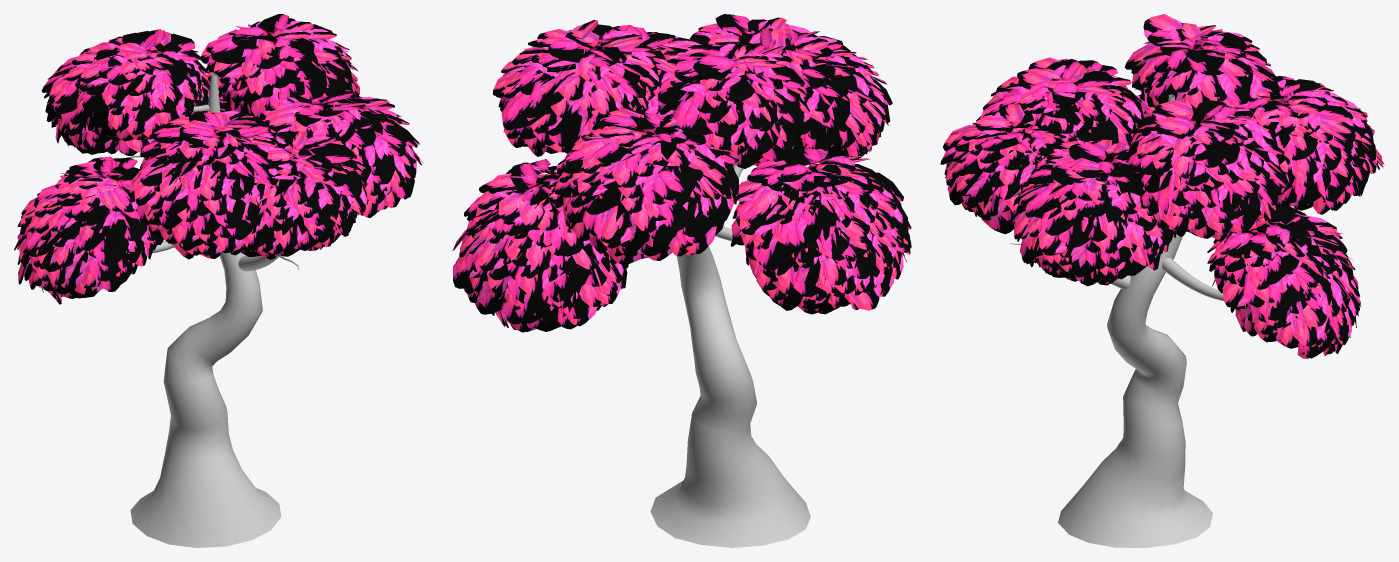
File: tree1.fbx
The picture shows the model from 3 angles, left to right: view 1: azimuth 30°, elevation 25°; view 2: azimuth 150°, elevation 25°; view 3: azimuth 270°, elevation 25°; orthographic projection. The views are drawn at different scales.
Parts seen in each view (by area): view 1: tree-leaves, tree1; view 2: tree-leaves, tree1; view 3: tree-leaves, tree1.
Boxes of the visible parts, x1,y1,x2,y2 form: tree-leaves: (14,14,422,304); tree1: (128,73,298,547); tree-leaves: (452,14,911,332); tree1: (650,164,810,547); tree-leaves: (940,14,1384,358); tree1: (1010,94,1223,547).
Size of the model in its own units: 956 by 1196 by 1010.
